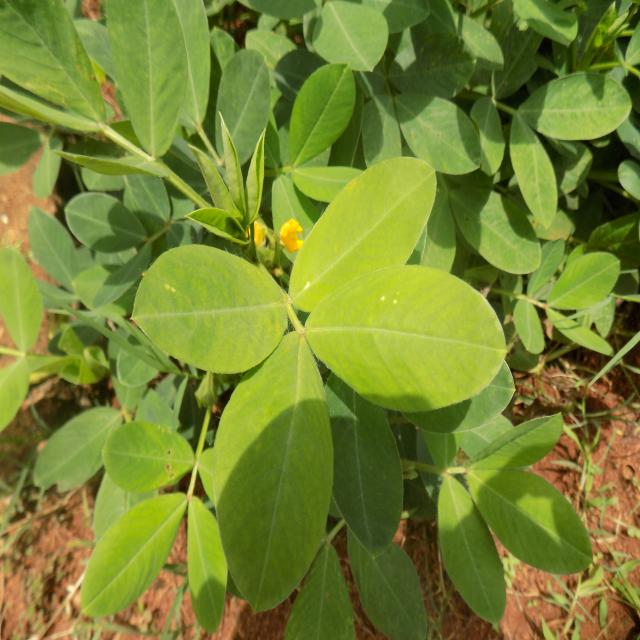Ground nut_healthy: (215, 326, 321, 612), (304, 270, 502, 406), (286, 154, 434, 306), (138, 244, 284, 373), (471, 469, 597, 577), (80, 496, 187, 621)
